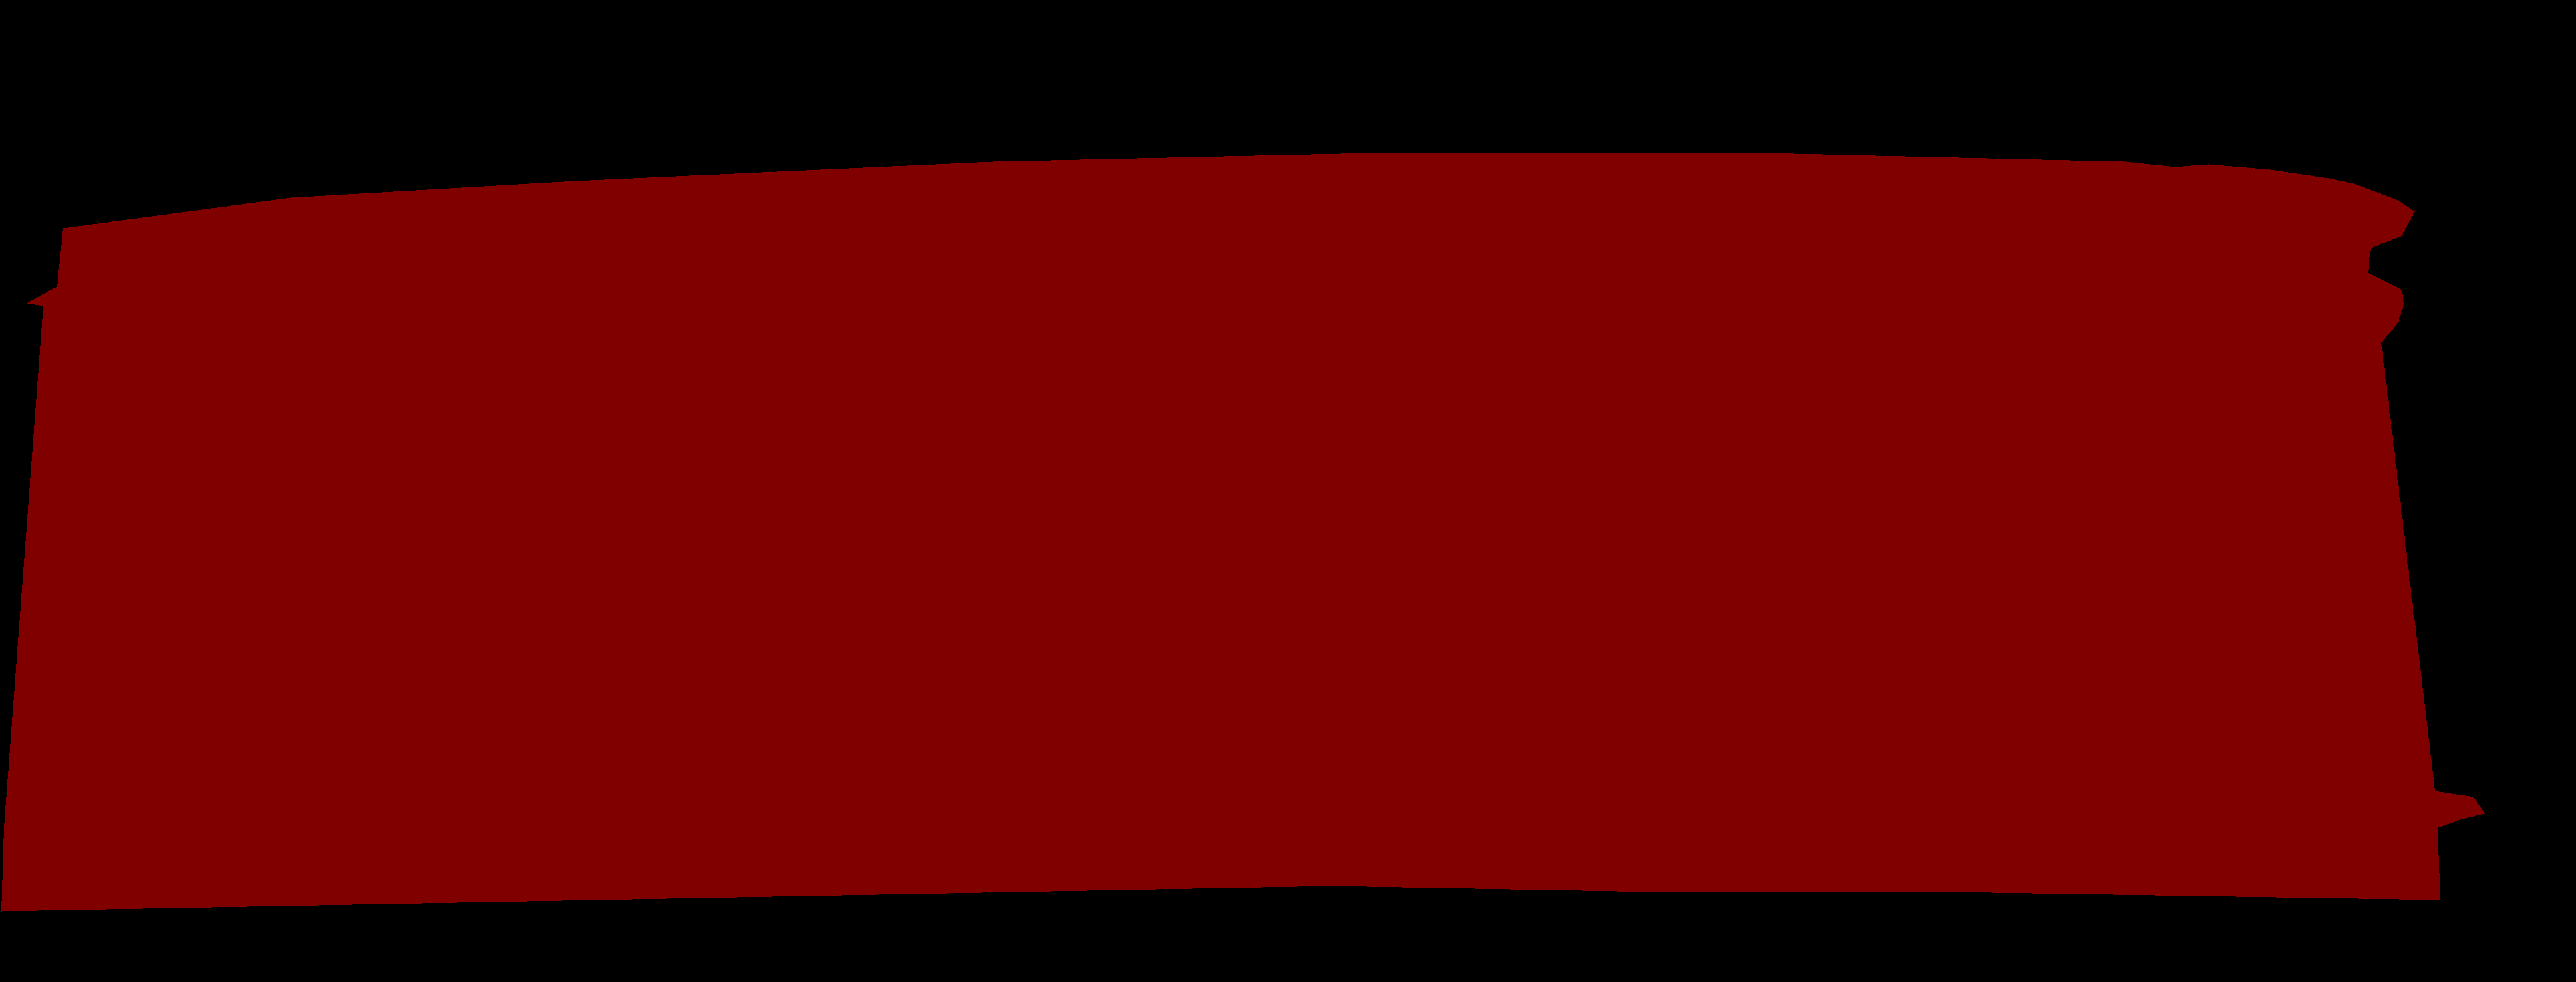sign: (2, 153, 2484, 911)
